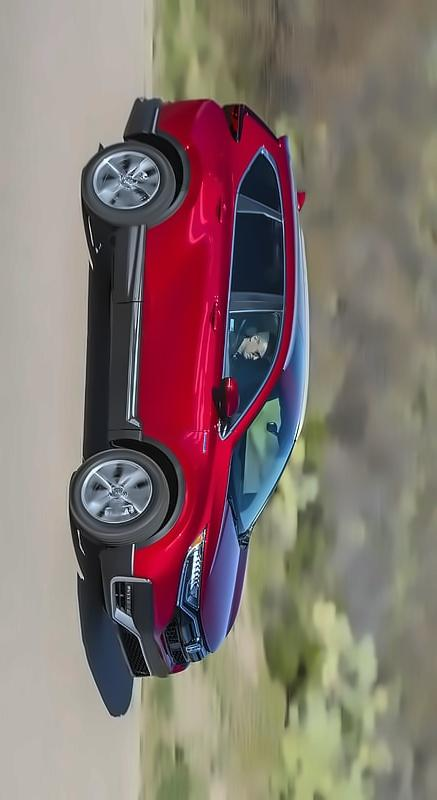Car hood: (197, 449, 251, 661)
Driver-s door - -F-R-: (123, 299, 291, 429)
Fender - -F-R-: (100, 426, 238, 547)
Fender - -R-R-: (168, 140, 256, 192)
Front bumper: (93, 531, 181, 685)
Headlight - -R-: (171, 522, 210, 618)
Passenger-s door - -R-R-: (122, 190, 292, 298)
Rear bumper: (117, 83, 208, 146)
Rear light - -R-: (217, 98, 284, 148)
Side bumper - -R-: (101, 217, 148, 454)
Side mirror - -R-: (208, 372, 246, 427)
